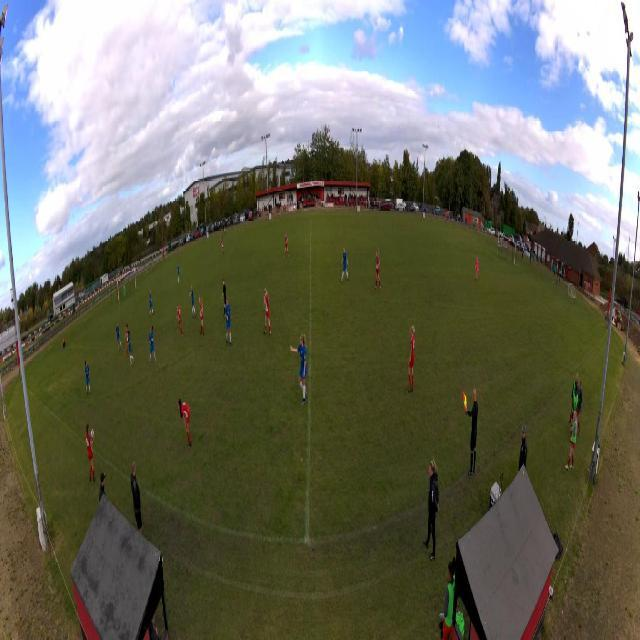player: (289, 332, 308, 406), (178, 397, 193, 449), (407, 325, 415, 395), (263, 287, 272, 337), (340, 245, 350, 283), (148, 324, 157, 366), (225, 295, 232, 347), (374, 249, 382, 293), (189, 284, 197, 320), (176, 302, 184, 338), (221, 277, 228, 317), (84, 358, 91, 396), (198, 295, 204, 337), (127, 331, 134, 367), (116, 322, 123, 353), (124, 323, 130, 358), (283, 231, 290, 259), (149, 289, 154, 318), (475, 255, 479, 282), (176, 263, 180, 284), (221, 237, 225, 256), (123, 282, 126, 302)
